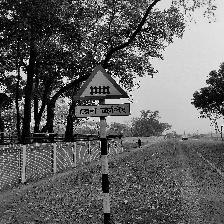Rail-crossing: (72, 65, 131, 118)
